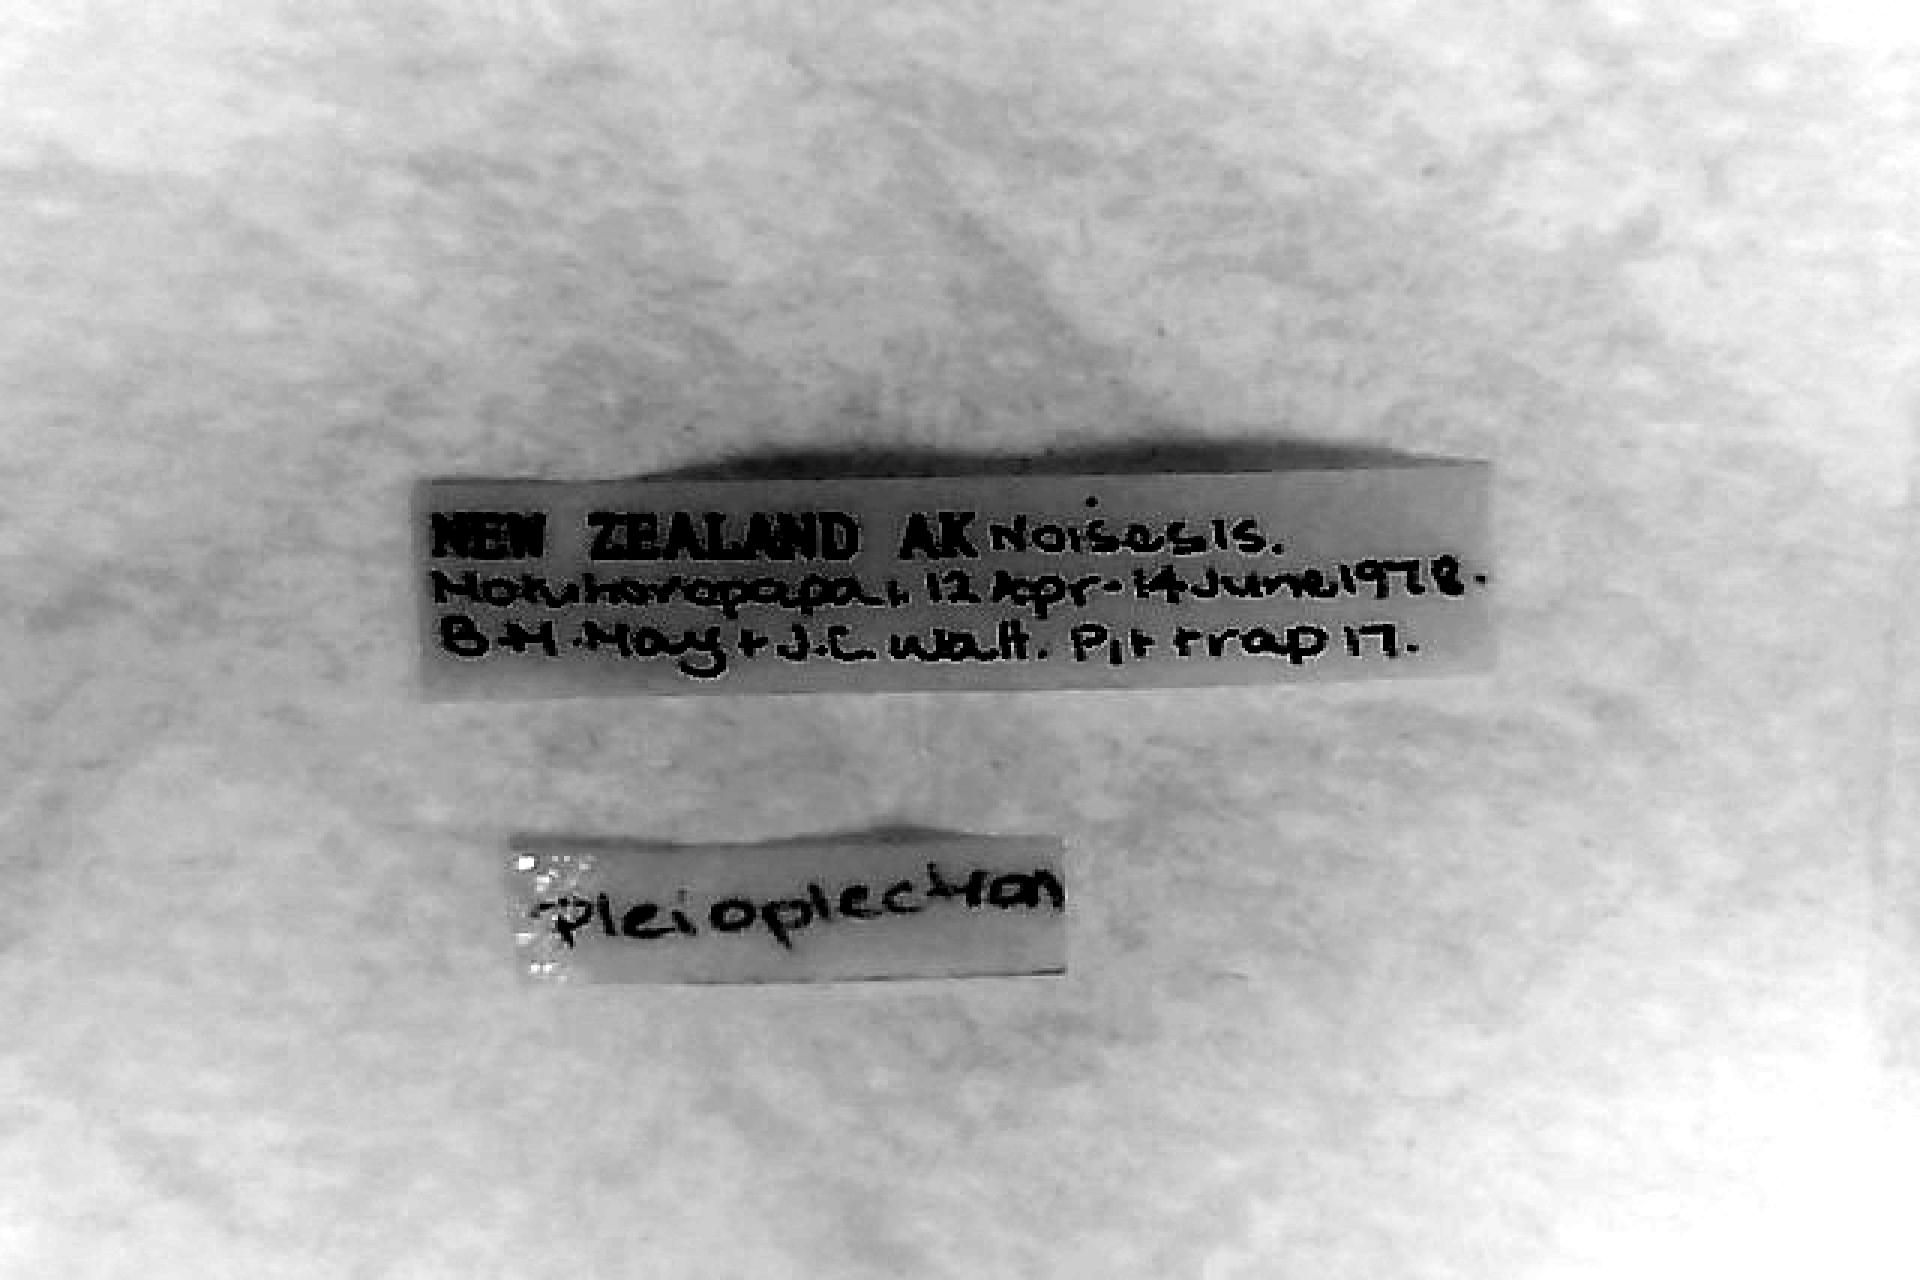hand_label: (510, 833, 1061, 981)
mixed_label: (416, 463, 1496, 697)
